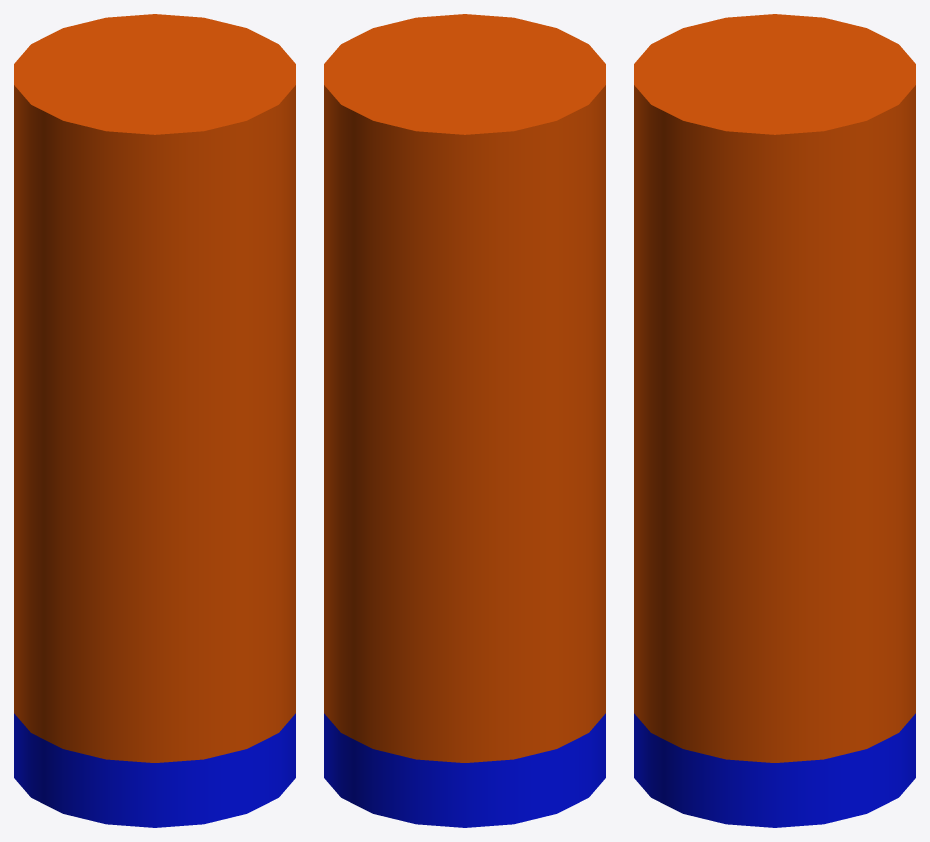
File: bluecrayon_Down.FBX
3 views of the same model, side by side, from view 1: azimuth 30°, elevation 25°; view 2: azimuth 150°, elevation 25°; view 3: azimuth 270°, elevation 25° (orthographic).
Visible parts, largest first — view 1: Cylinder004, Cylinder003; view 2: Cylinder004, Cylinder003; view 3: Cylinder004, Cylinder003.
Boxes of the visible parts, x1,y1,x2,y2 form: Cylinder004: (14, 14, 295, 762); Cylinder003: (14, 713, 295, 827); Cylinder004: (324, 14, 605, 762); Cylinder003: (324, 713, 605, 827); Cylinder004: (634, 14, 915, 762); Cylinder003: (634, 713, 915, 827).
Size of the model in its own units: 12.9 by 34.49 by 12.71.
